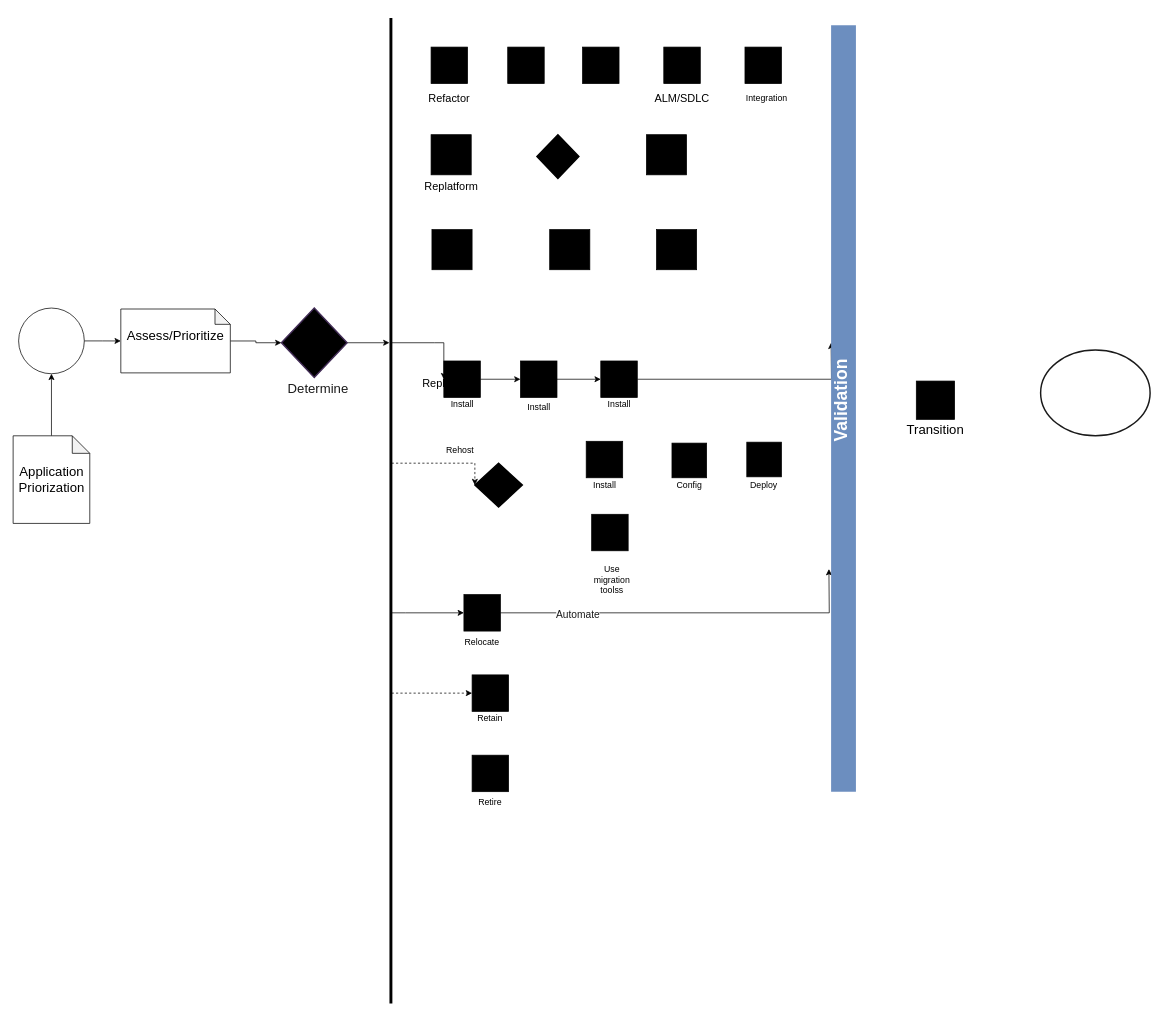
Some shapes in this 1163 by 1017 pixel diagram are drawn without their labels. The shapes that lost their labels are listed below. From the top down, each one's centre as x and y in pixels, then its label:
point 51,340: Discover
point 1095,392: Production
